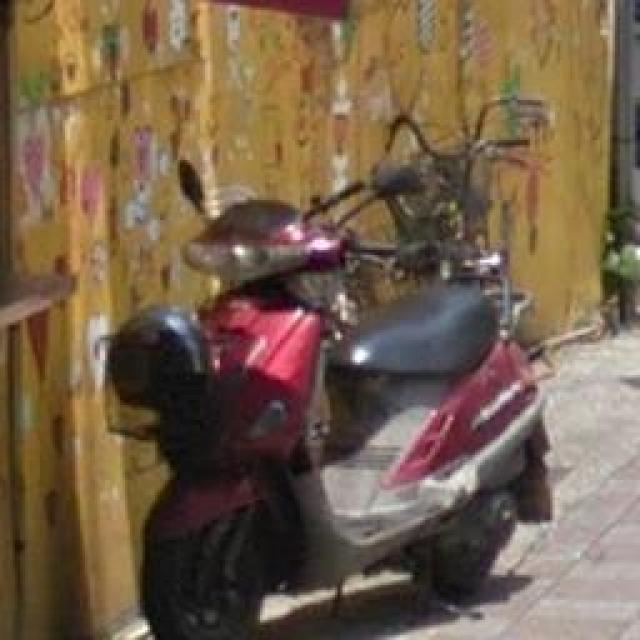Motor: (102, 110, 565, 638)
